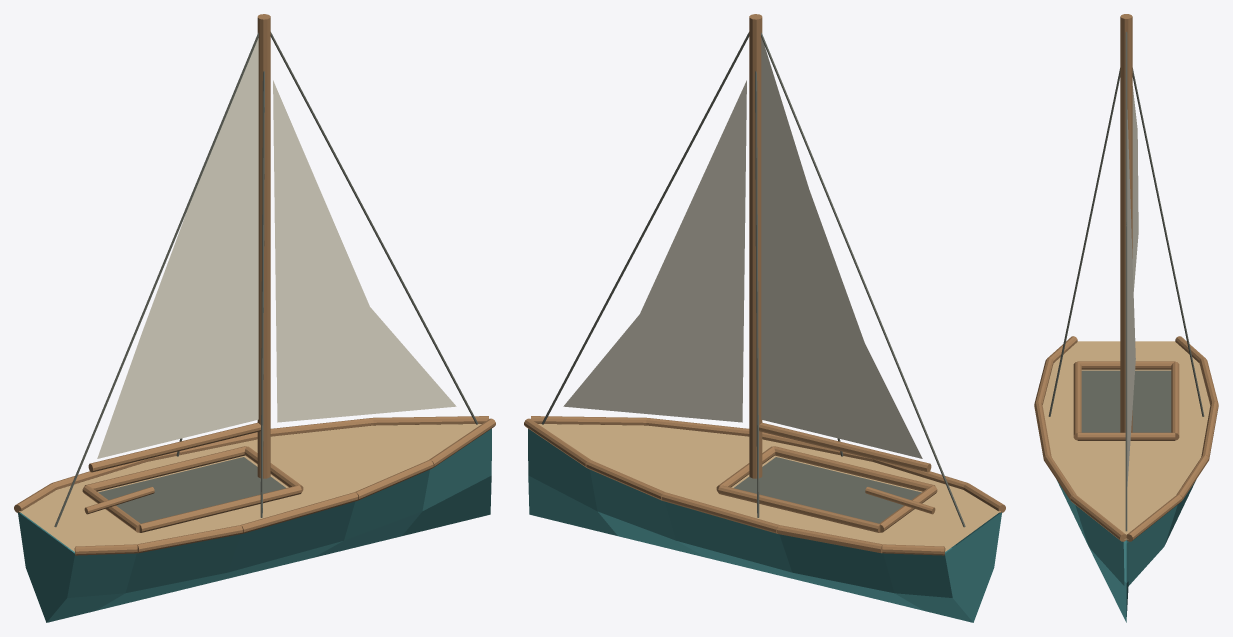
The picture shows the model from 3 angles, left to right: view 1: azimuth 30°, elevation 25°; view 2: azimuth 150°, elevation 25°; view 3: azimuth 270°, elevation 25°; orthographic projection. The views are drawn at different scales.
Parts seen in each view (by area): view 1: mainsail, jib, shaped hull, teak deck, cockpit, mast, boom, cockpit coaming, cockpit coaming.001, rigging.001, rigging, rigging.002 (+6 smaller); view 2: mainsail, jib, shaped hull, teak deck, cockpit, mast, boom, cockpit coaming.001, cockpit coaming, rigging.001, rigging, rigging.003 (+6 smaller); view 3: teak deck, cockpit, shaped hull, mast, jib, rigging, mainsail, rigging.002, rigging.003, cockpit coaming.003, cockpit coaming.002, cockpit coaming (+9 smaller).
Boxes of the visible parts, bbox=[...] form: mainsail: bbox=[97, 38, 258, 458]; jib: bbox=[273, 80, 456, 422]; shaped hull: bbox=[18, 428, 491, 622]; teak deck: bbox=[19, 424, 481, 551]; cockpit: bbox=[98, 457, 285, 523]; mast: bbox=[257, 14, 270, 478]; boom: bbox=[88, 422, 260, 472]; cockpit coaming: bbox=[139, 485, 301, 532]; cockpit coaming.001: bbox=[84, 446, 245, 491]; rigging.001: bbox=[54, 32, 258, 527]; rigging: bbox=[270, 32, 478, 424]; rigging.002: bbox=[260, 71, 264, 517]; mainsail: bbox=[761, 38, 922, 458]; jib: bbox=[563, 80, 746, 422]; shaped hull: bbox=[528, 428, 1001, 622]; teak deck: bbox=[538, 424, 1000, 551]; cockpit: bbox=[734, 457, 921, 523]; mast: bbox=[749, 14, 762, 478]; boom: bbox=[759, 422, 931, 472]; cockpit coaming.001: bbox=[718, 485, 880, 532]; cockpit coaming: bbox=[774, 446, 935, 491]; rigging.001: bbox=[761, 32, 965, 527]; rigging: bbox=[541, 32, 749, 424]; rigging.003: bbox=[755, 71, 759, 517]; teak deck: bbox=[1042, 341, 1210, 539]; cockpit: bbox=[1081, 370, 1171, 432]; shaped hull: bbox=[1057, 480, 1195, 622]; mast: bbox=[1120, 14, 1132, 432]; jib: bbox=[1127, 110, 1135, 486]; rigging: bbox=[1125, 32, 1127, 531]; mainsail: bbox=[1132, 86, 1138, 291]; rigging.002: bbox=[1048, 68, 1120, 416]; rigging.003: bbox=[1132, 68, 1204, 416]; cockpit coaming.003: bbox=[1077, 432, 1175, 440]; cockpit coaming.002: bbox=[1078, 361, 1174, 369]; cockpit coaming: bbox=[1073, 361, 1081, 440].
Size of the model in its own units: 5.04 by 5.95 by 1.97.
